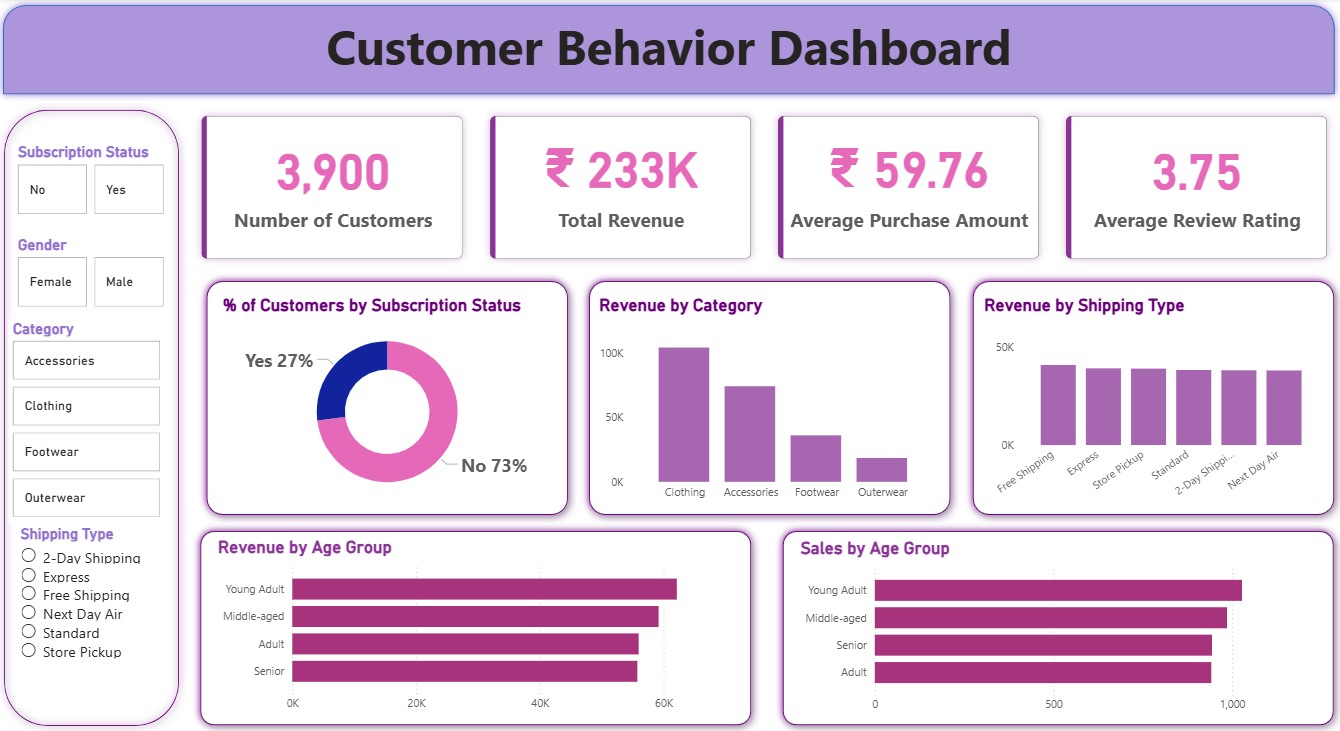

The dashboard page shown, as its layout file describes it:
{"tool":"powerbi","page":{"name":"Page 1","canvas":[1500,820],"ordinal":0},"visuals":[{"type":"cardVisual","fields":{"Data":["public customer.Number of Customers","public customer.total revenu","public customer.Average Purchase Amount","public customer.Average Review Rating"]},"box":[212.9,115.3,1286.5,191.6],"z":2000},{"type":"shape","box":[218.3,585.6,631.7,234.2],"z":2500,"group":"g1"},{"type":"shape","box":[0,0,1499.4,115.3],"z":3000},{"type":"textbox","box":[0,12.4,1499.4,102.9],"z":4000},{"type":"shape","box":[225.4,307,420.5,278.6],"z":5000},{"type":"donutChart","title":"% of Customers by Subscription Status","fields":{"Category":["public customer.subscription_status"],"Y":["CountNonNull(public customer.customer_id)"]},"box":[248.4,331.8,376.2,237.8],"z":6000},{"type":"shape","box":[1078.9,307,420.5,278.6],"z":7000},{"type":"shape","box":[652.1,307,420.5,278.6],"z":8000},{"type":"clusteredColumnChart","title":"Revenue by Category","fields":{"Y":["Sum(public customer.purchase_amount)"],"Category":["public customer.category"]},"box":[667.2,331.8,385.1,237.8],"z":9000},{"type":"clusteredColumnChart","title":"Revenue by Shipping Type","fields":{"Category":["public customer.shipping_type"],"Y":["Sum(public customer.purchase_amount)"]},"box":[1096.6,331.8,385.1,237.8],"z":10000},{"type":"shape","box":[0,115.3,212.9,704.5],"z":11000},{"type":"advancedSlicerVisual","fields":{"Values":["public customer.subscription_status"]},"box":[19.5,161.5,173.9,85.2],"z":12000},{"type":"advancedSlicerVisual","fields":{"Values":["public customer.gender"]},"box":[19.5,264.4,173.9,85.2],"z":13000},{"type":"advancedSlicerVisual","fields":{"Values":["public customer.category"]},"box":[14,358.1,174.2,227.5],"z":14000},{"type":"listSlicer","fields":{"Values":["public customer.shipping_type"]},"box":[22,586.7,158.9,204.6],"z":15000},{"type":"shape","box":[867.7,585.6,631.7,234.2],"z":16000},{"type":"clusteredBarChart","title":"Sales by Age Group","fields":{"Y":["CountNonNull(public customer.customer_id)"],"Category":["public customer.age_group"]},"box":[890.8,601.5,585.6,204.1],"z":17000},{"type":"clusteredBarChart","title":"Revenue by Age Group","fields":{"Y":["Sum(public customer.purchase_amount)"],"Category":["public customer.age_group"]},"box":[241.4,601.6,585.6,204.1],"z":17500,"group":"g1"},{"type":"group","id":"g1","title":"Group 1","box":[218.3,585.6,631.7,234.2],"z":17501}]}

Visuals, with their boxes in screenshot pixels (x1, y1, x2, y2), scaled from the page's 1500x820 canvas onto the 1340x731 screenshot:
cardVisual - public customer.Number of Customers x public customer.total revenu: BBox(190, 103, 1339, 274)
shape: BBox(195, 522, 759, 730)
shape: BBox(0, 0, 1339, 103)
textbox: BBox(0, 11, 1339, 103)
shape: BBox(201, 274, 577, 522)
"% of Customers by Subscription Status" donutChart: BBox(222, 296, 558, 508)
shape: BBox(964, 274, 1339, 522)
shape: BBox(583, 274, 958, 522)
"Revenue by Category" clusteredColumnChart: BBox(596, 296, 940, 508)
"Revenue by Shipping Type" clusteredColumnChart: BBox(980, 296, 1324, 508)
shape: BBox(0, 103, 190, 730)
advancedSlicerVisual - public customer.subscription_status: BBox(17, 144, 173, 220)
advancedSlicerVisual - public customer.gender: BBox(17, 236, 173, 312)
advancedSlicerVisual - public customer.category: BBox(13, 319, 168, 522)
listSlicer - public customer.shipping_type: BBox(20, 523, 162, 705)
shape: BBox(775, 522, 1339, 730)
"Sales by Age Group" clusteredBarChart: BBox(796, 536, 1319, 718)
"Revenue by Age Group" clusteredBarChart: BBox(216, 536, 739, 718)
"Group 1" group: BBox(195, 522, 759, 730)
